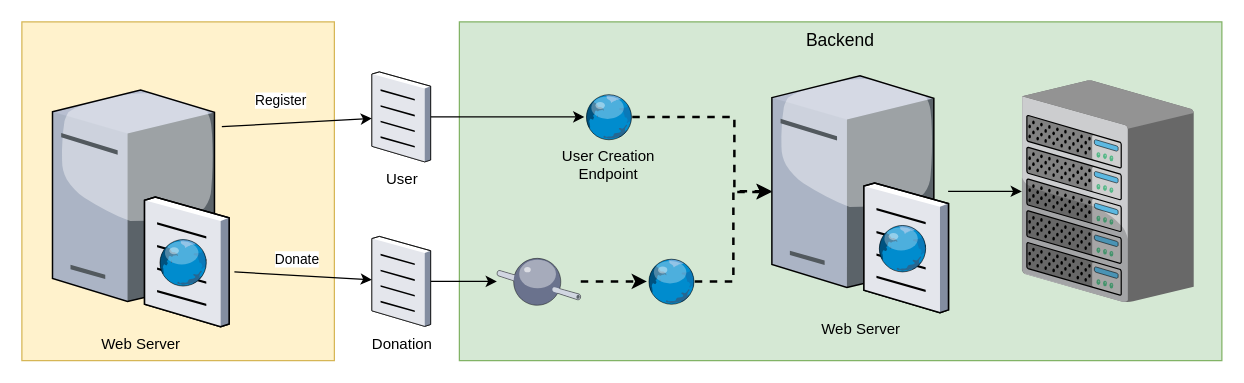
This 1244x383 diagram has some shape labels left out. The shapes that lost their labels are listed below. From the top down, each one's box as (x1, y1, x2, y2) in pixels, then its label:
(21, 21, 334, 361): Frontend
(496, 256, 580, 306): Middleware
(646, 258, 694, 304): Donation Endpoint
